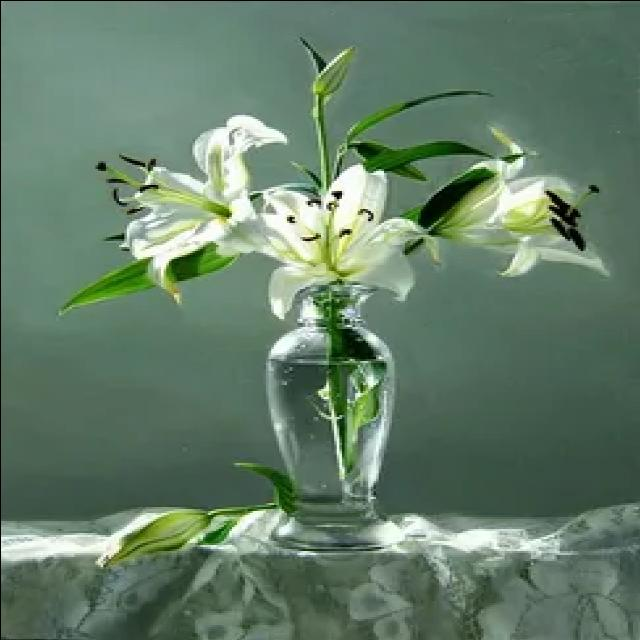lily: (231, 158, 428, 312)
